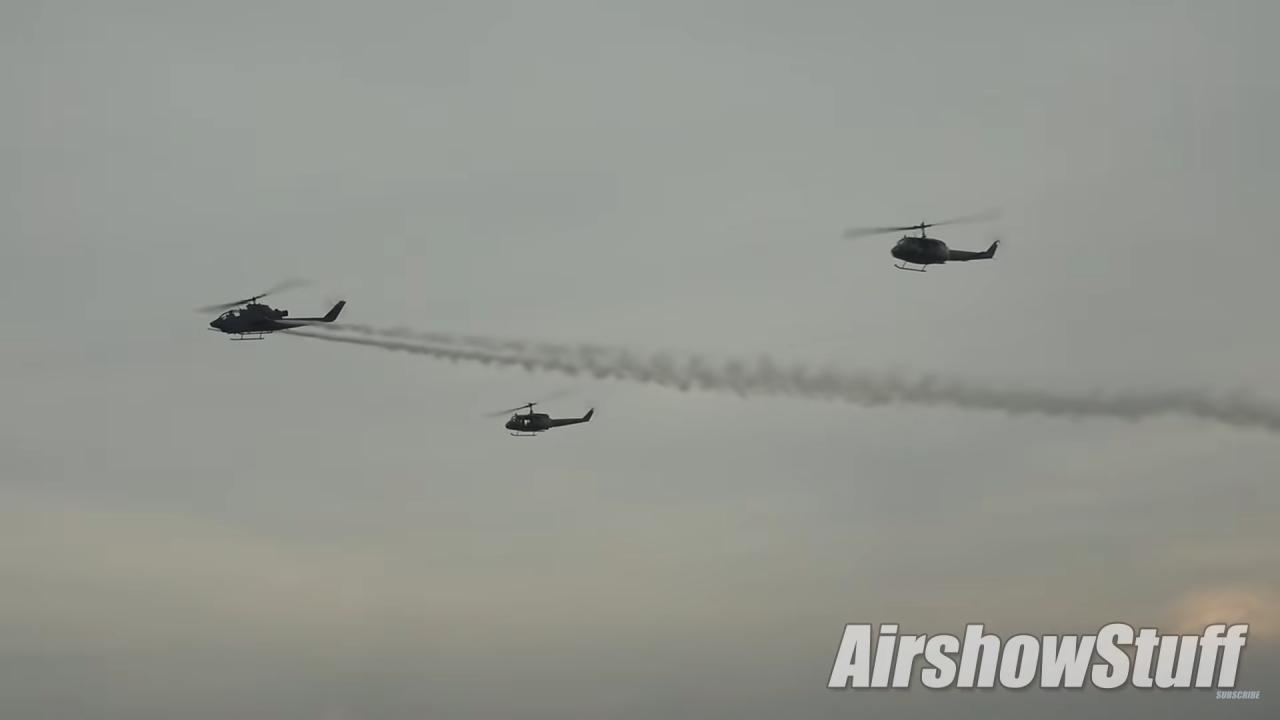Helicopter: (831, 190, 1029, 299), (183, 262, 367, 366), (468, 380, 612, 460)
